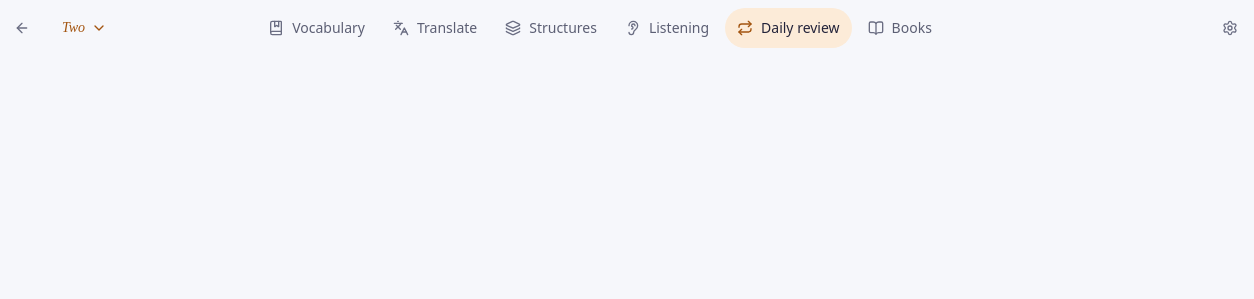
Test case: TopBar › the chapter title opens the picker and picking opens that chapter
Click the button with aria-label "Current chapter: Two".
click(85, 28)  # box x1=50 y1=8 x2=119 y2=48
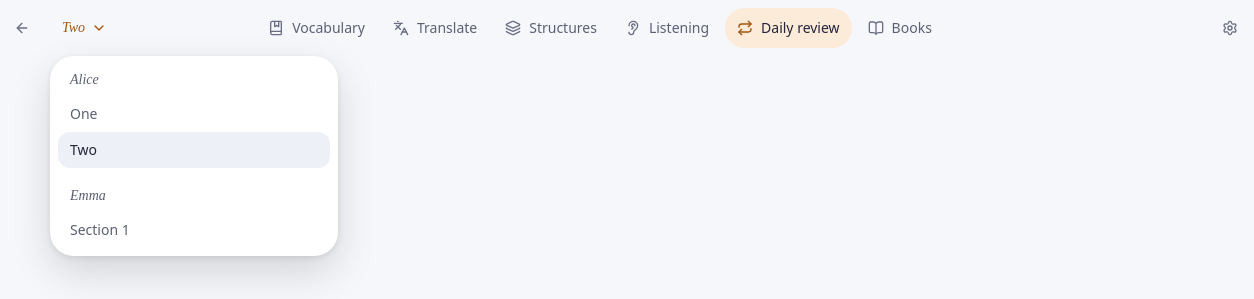
Check: the element "Alice" is shown, box x1=58 y1=64 x2=330 y2=168
Check: the text "Alice" is shown, box x1=70 y1=72 x2=99 y2=87
Check: the option "Section 1" is shown, box x1=70 y1=220 x2=130 y2=239
Click the option "One".
click(84, 114)  # box x1=70 y1=104 x2=98 y2=123
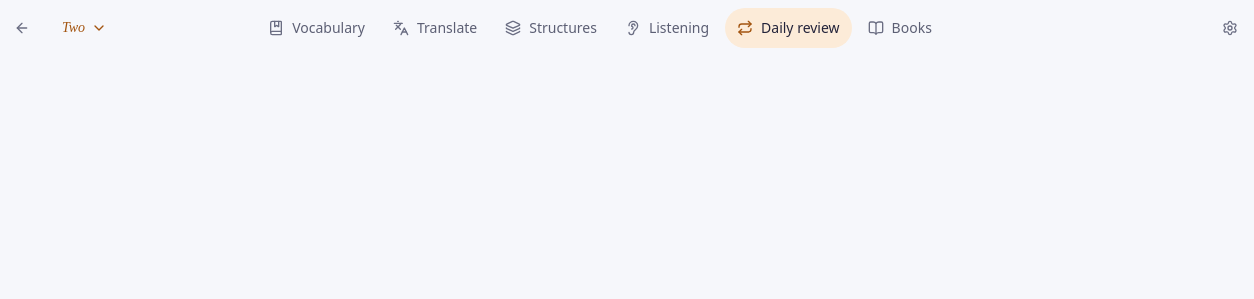
Check: the list is gone
